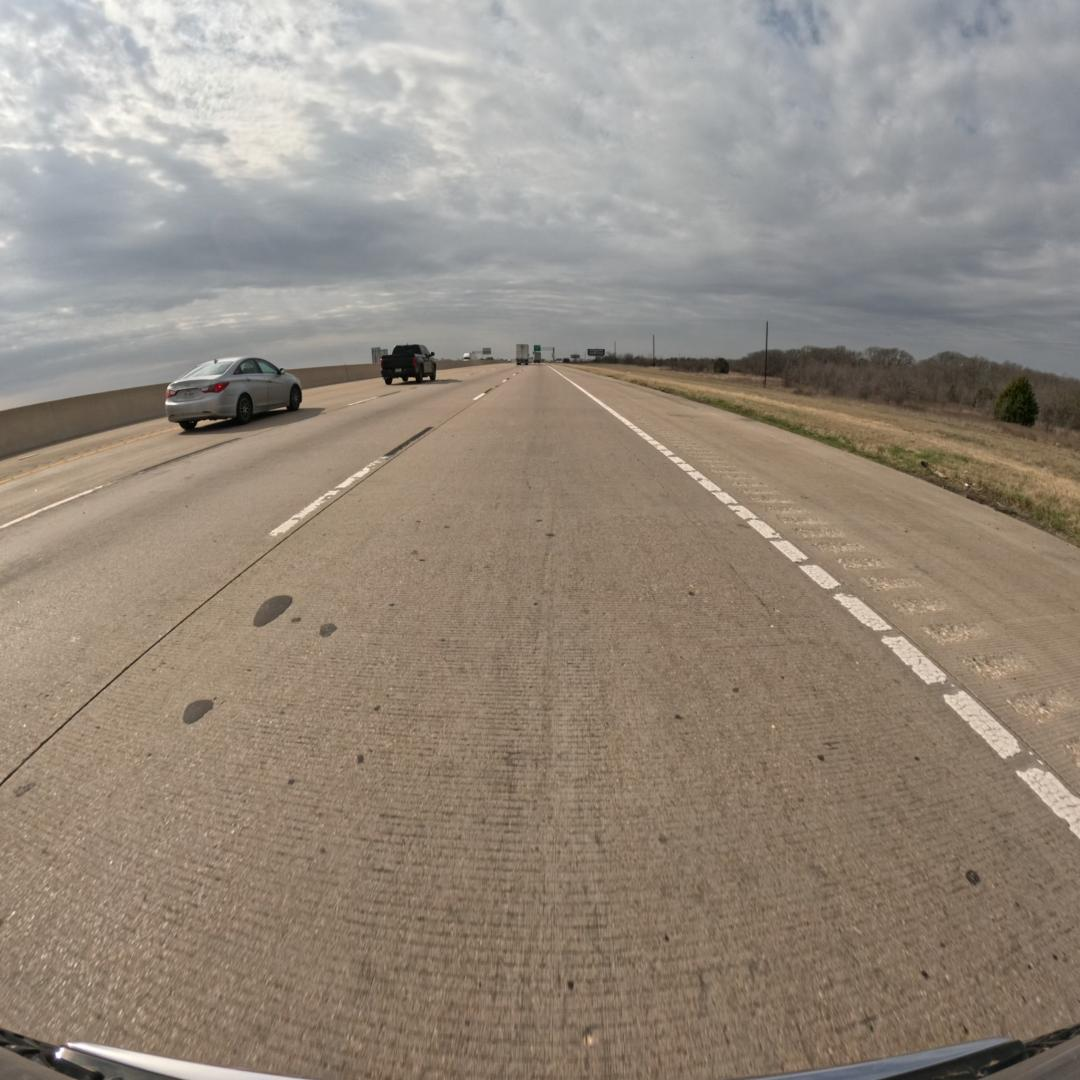lane0: (0, 371, 1080, 1076)
lane1: (0, 372, 509, 783)
